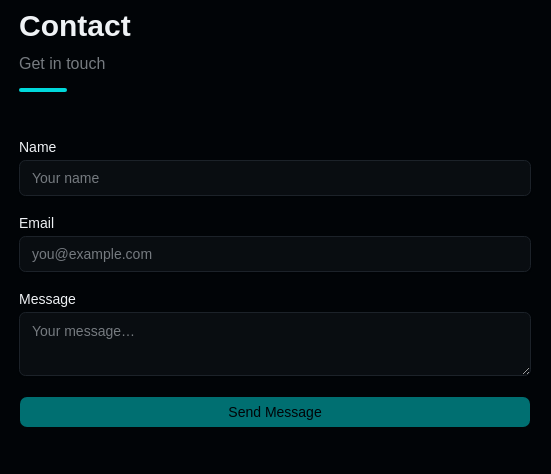
Test case: Contact form › shows validation error for short message
The image size is (551, 474).
Step 1. Type "Alice" into the field labelled "Name" → [275, 178], box [19,160,531,196]
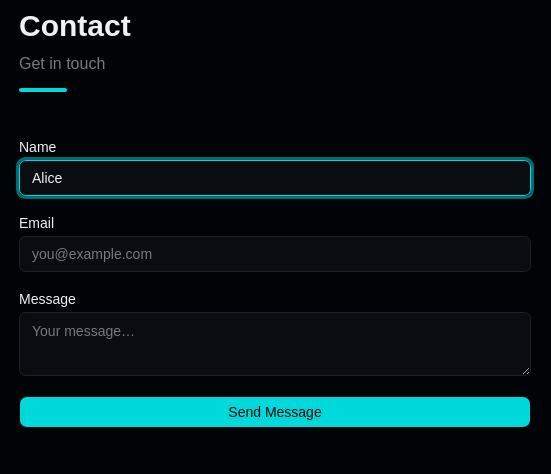
Step 2. Type "alice@example.com" into the field labelled "Email" → [275, 254], box [19,236,531,272]
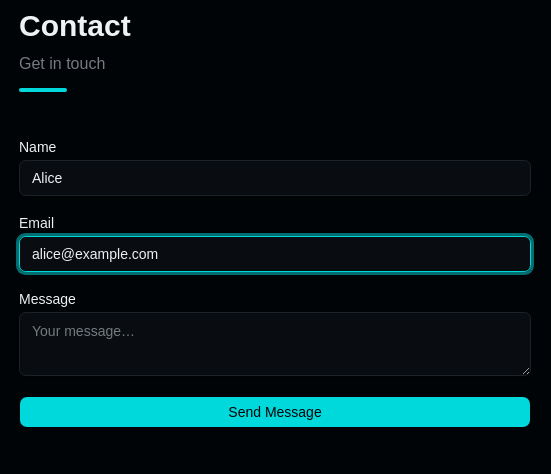
Step 3. Type "Short" into the text box labelled "Message" → [275, 344], box [19,312,531,376]
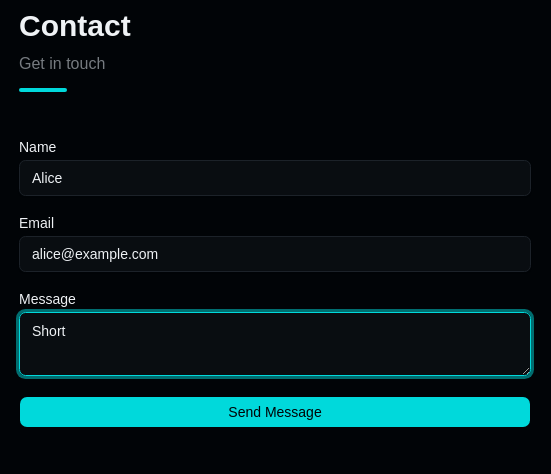
Step 4. Click the button "Send Message" → [275, 412], box [19,396,531,428]
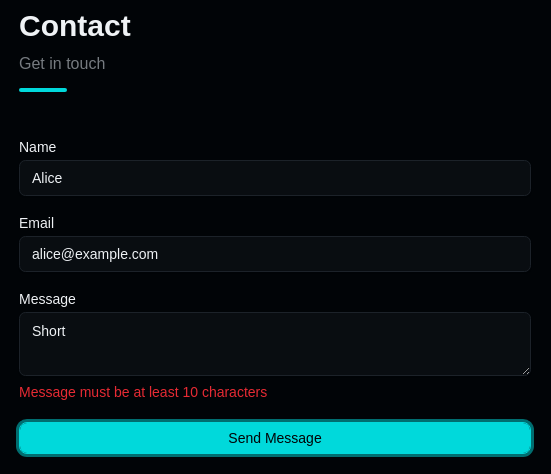
Expected: the text "Message must be at least 10 characters" is shown, [19,384,267,400]
